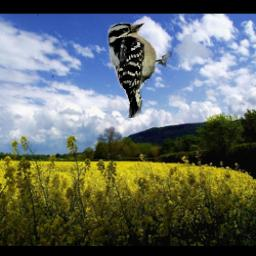Woodpecker: (106, 20, 173, 118)
